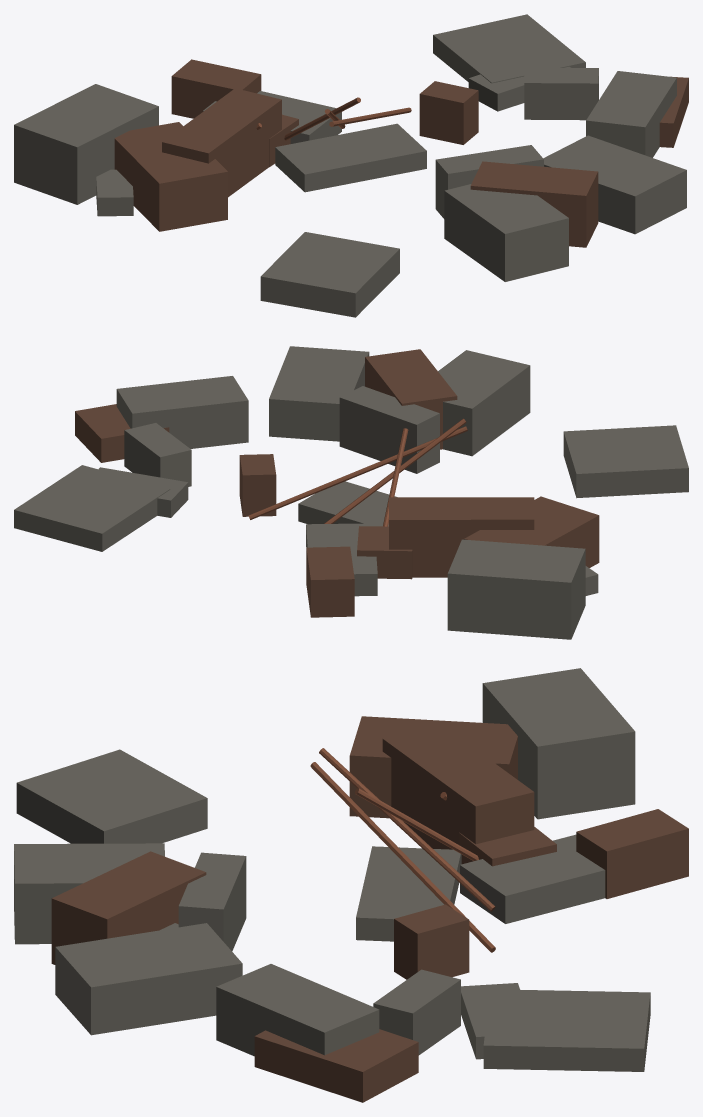
File: rubble_cluster.glb
3 views of the same model, one above another, from view 1: azimuth 30°, elevation 25°; view 2: azimuth 150°, elevation 25°; view 3: azimuth 270°, elevation 25° (orthographic). The views are drawn at different scales.
Parts seen in each view (by area): view 1: concrete_fragment.019, concrete_fragment.007, concrete_fragment.008, concrete_fragment, concrete_fragment.016, concrete_fragment.015, concrete_fragment.014, concrete_fragment.013, concrete_fragment.004, concrete_fragment.012, concrete_fragment.005, concrete_fragment.009 (+9 smaller); view 2: concrete_fragment.019, concrete_fragment.013, concrete_fragment.008, concrete_fragment.015, concrete_fragment.004, concrete_fragment.016, concrete_fragment.007, concrete_fragment.002, concrete_fragment, concrete_fragment.012, concrete_fragment.009, concrete_fragment.005 (+9 smaller); view 3: concrete_fragment.019, concrete_fragment.016, concrete_fragment.013, concrete_fragment.008, concrete_fragment.015, concrete_fragment.004, concrete_fragment.012, concrete_fragment.010, concrete_fragment.006, concrete_fragment.007, concrete_fragment.009, concrete_fragment.014 (+9 smaller).
Boxes of the visible parts, box(x1,y1,x2,y2) form: concrete_fragment.019: box(14, 84, 158, 204); concrete_fragment.007: box(444, 184, 568, 281); concrete_fragment.008: box(260, 232, 399, 317); concrete_fragment: box(114, 122, 227, 231); concrete_fragment.016: box(543, 135, 686, 234); concrete_fragment.015: box(162, 88, 281, 197); concrete_fragment.014: box(275, 123, 426, 192); concrete_fragment.013: box(433, 14, 585, 83); concrete_fragment.004: box(586, 71, 676, 157); concrete_fragment.012: box(470, 161, 598, 247); concrete_fragment.005: box(524, 67, 598, 120); concrete_fragment.009: box(171, 59, 261, 118); concrete_fragment.019: box(447, 539, 585, 639); concrete_fragment.013: box(14, 465, 170, 551); concrete_fragment.008: box(563, 425, 688, 498); concrete_fragment.015: box(389, 497, 534, 577); concrete_fragment.004: box(116, 376, 248, 448); concrete_fragment.016: box(269, 346, 369, 441); concrete_fragment.007: box(438, 350, 530, 456); concrete_fragment.002: box(339, 386, 439, 473); concrete_fragment: box(464, 496, 599, 567); concrete_fragment.012: box(365, 349, 457, 449); concrete_fragment.009: box(306, 546, 354, 617); concrete_fragment.005: box(124, 423, 191, 486); concrete_fragment.019: box(482, 668, 635, 819); concrete_fragment.016: box(55, 923, 242, 1035); concrete_fragment.013: box(483, 989, 650, 1071); concrete_fragment.008: box(16, 749, 207, 843); concrete_fragment.015: box(382, 724, 534, 849); concrete_fragment.004: box(216, 964, 379, 1056); concrete_fragment.012: box(51, 851, 206, 964); concrete_fragment.010: box(460, 834, 605, 923); concrete_fragment.006: box(254, 1029, 418, 1102); concrete_fragment.007: box(14, 843, 164, 944); concrete_fragment.009: box(576, 809, 688, 898); concrete_fragment.014: box(356, 846, 461, 941).
Bounding box in the file's own units: 6.21 × 0.9802 × 4.89.
